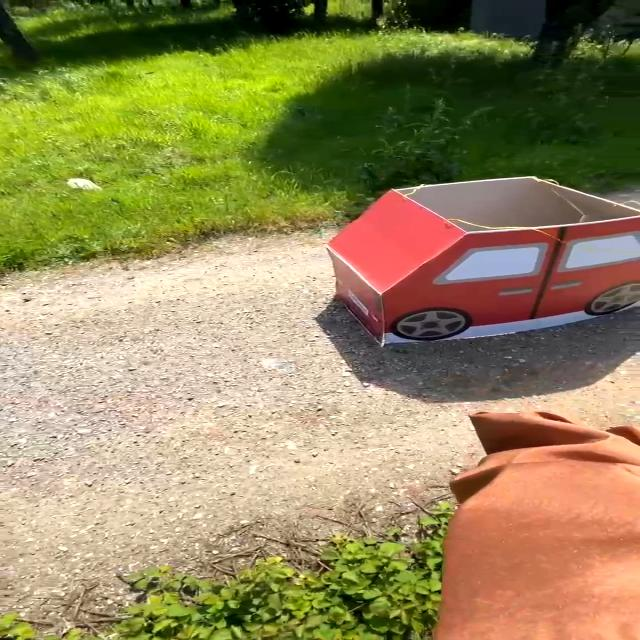red_car: (240, 170, 640, 367)
